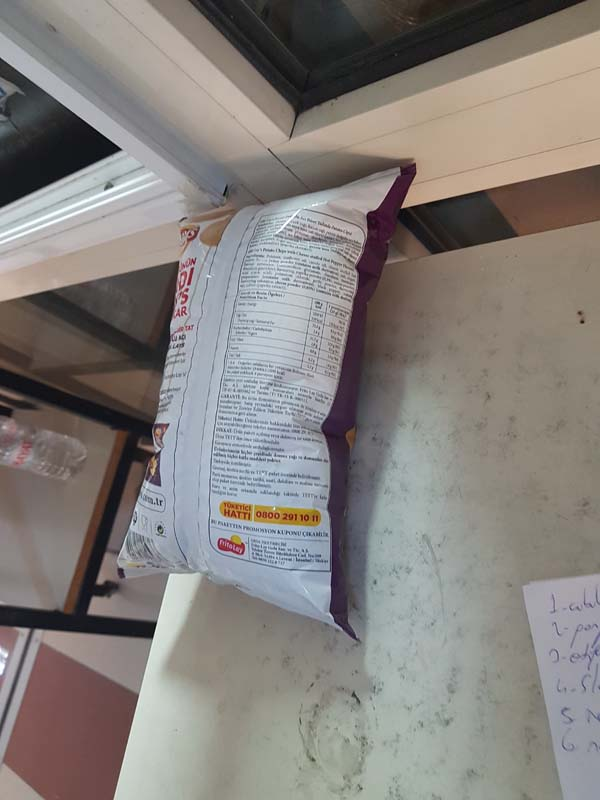layspeynirsoslu: (120, 160, 383, 649)
